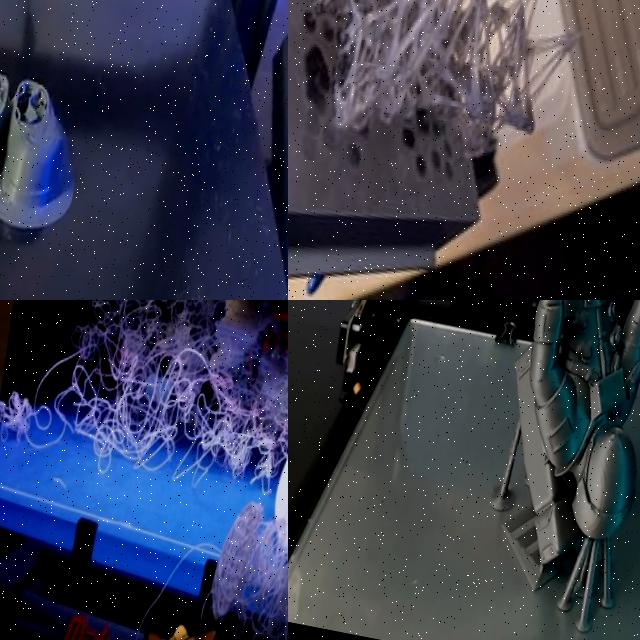spaghetti: (288, 0, 624, 218), (0, 300, 273, 484)
